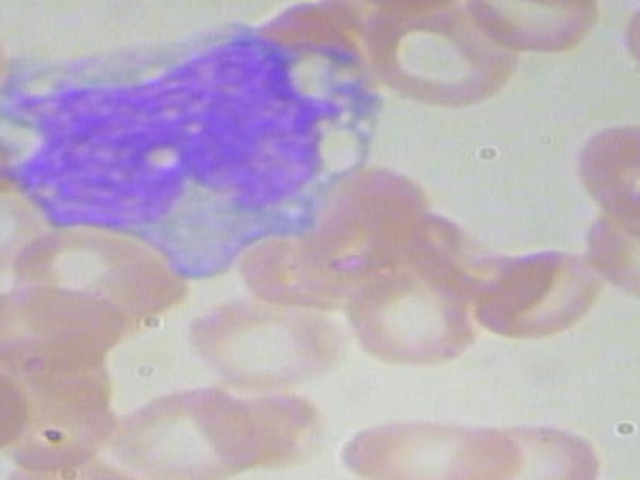RBC: (173, 289, 348, 387), (326, 413, 528, 480), (478, 243, 611, 341), (0, 285, 129, 361), (447, 421, 610, 480), (577, 195, 640, 317), (572, 121, 640, 219), (0, 356, 33, 454), (0, 10, 11, 126)
WBC: (0, 16, 373, 288)
